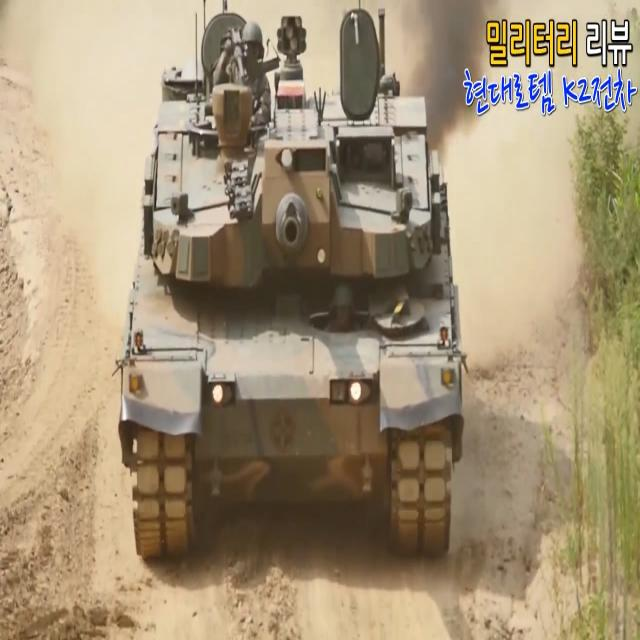korea tank: (119, 4, 469, 576)
